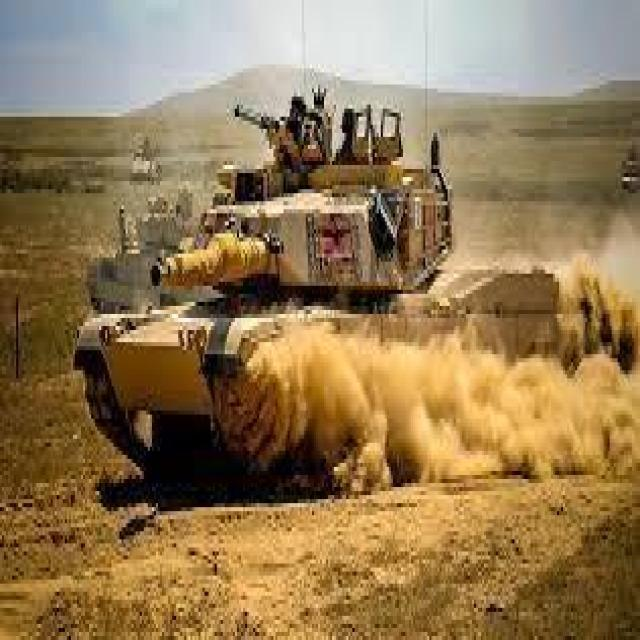MIL_MBT: (72, 91, 582, 453)
